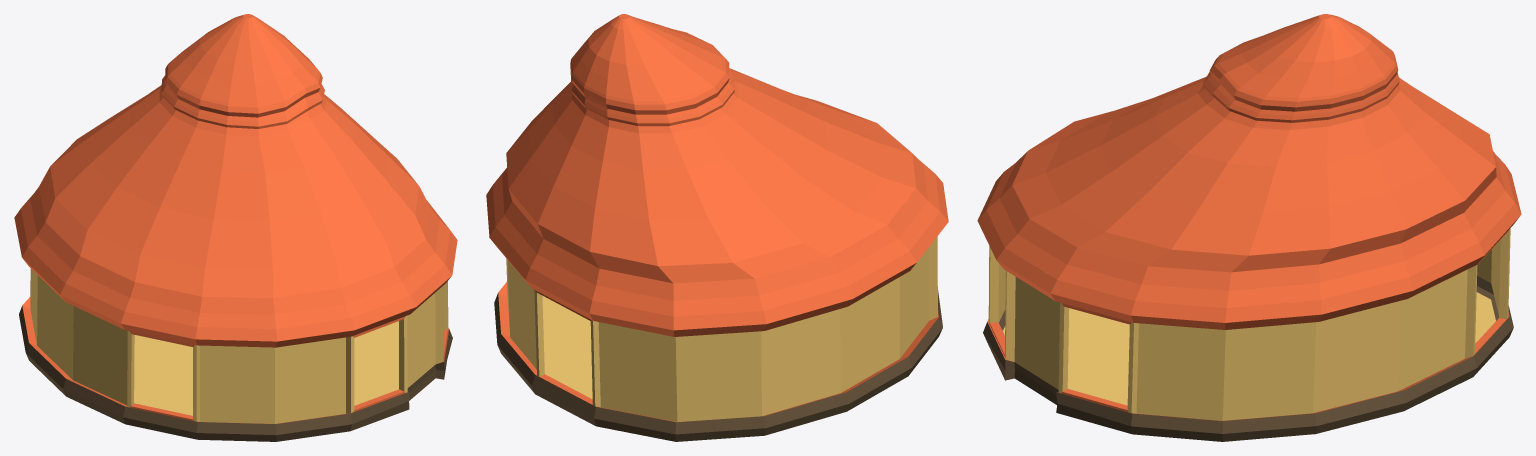
The model's file is House01.fbx.
The picture shows the model from 3 angles, left to right: view 1: azimuth 30°, elevation 25°; view 2: azimuth 150°, elevation 25°; view 3: azimuth 270°, elevation 25°; orthographic projection. The views are drawn at different scales.
Parts seen in each view (by area): view 1: Cylinder.010; view 2: Cylinder.010; view 3: Cylinder.010.
Part boxes in pixels (x1,y1,x2,y2): Cylinder.010: (14, 14, 457, 441); Cylinder.010: (486, 14, 948, 441); Cylinder.010: (977, 14, 1521, 441).
Bounding box in the file's own units: 1421 × 1111 × 1559.
